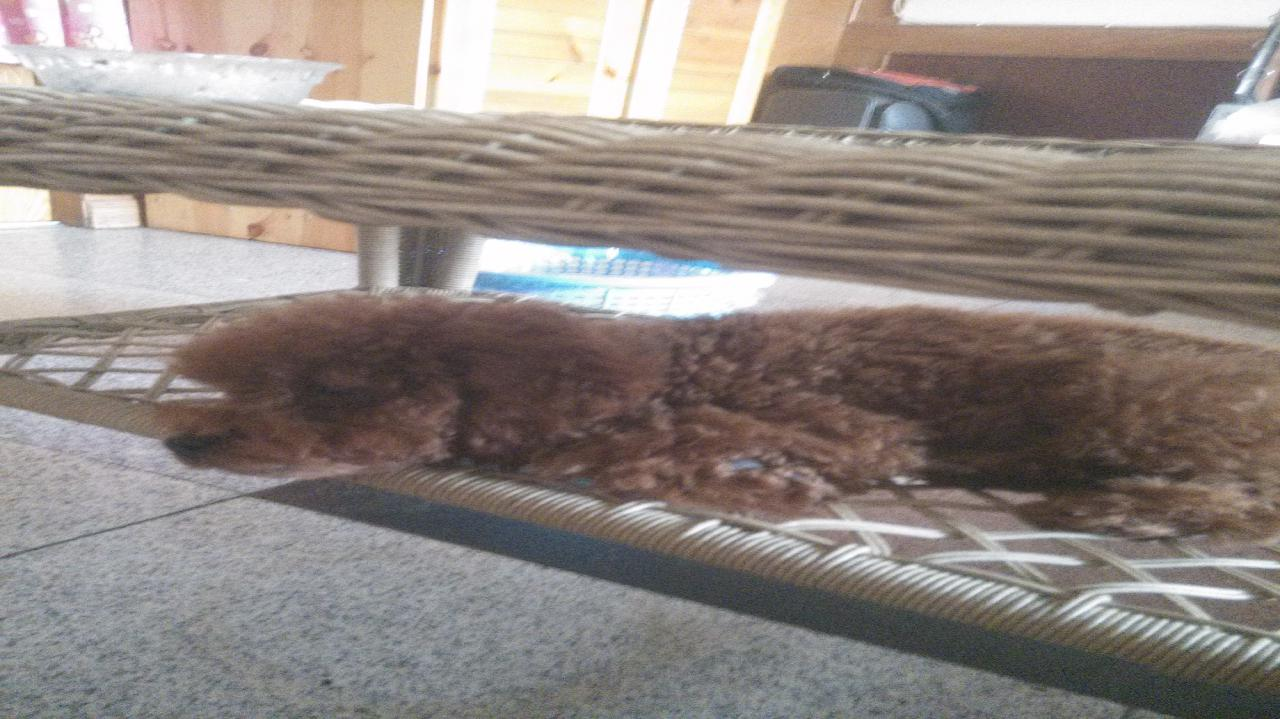zhuangzhuang: (173, 277, 1259, 590)
